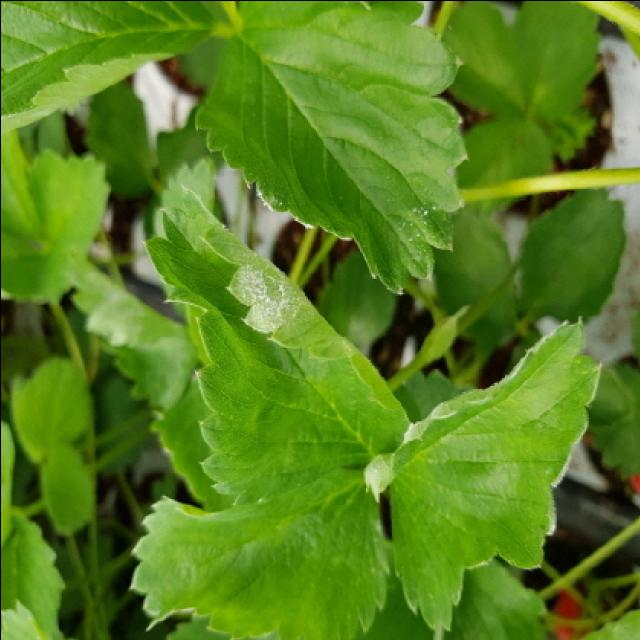Powdery Mildew Leaf: (126, 185, 409, 640), (193, 2, 470, 295), (362, 317, 601, 631)
